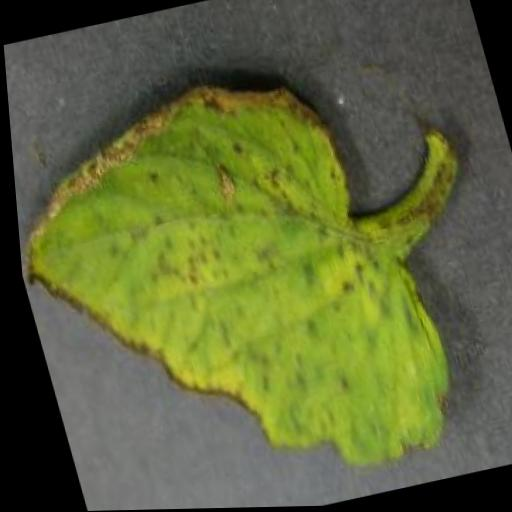Bacterial Spot: (3, 43, 472, 512)
